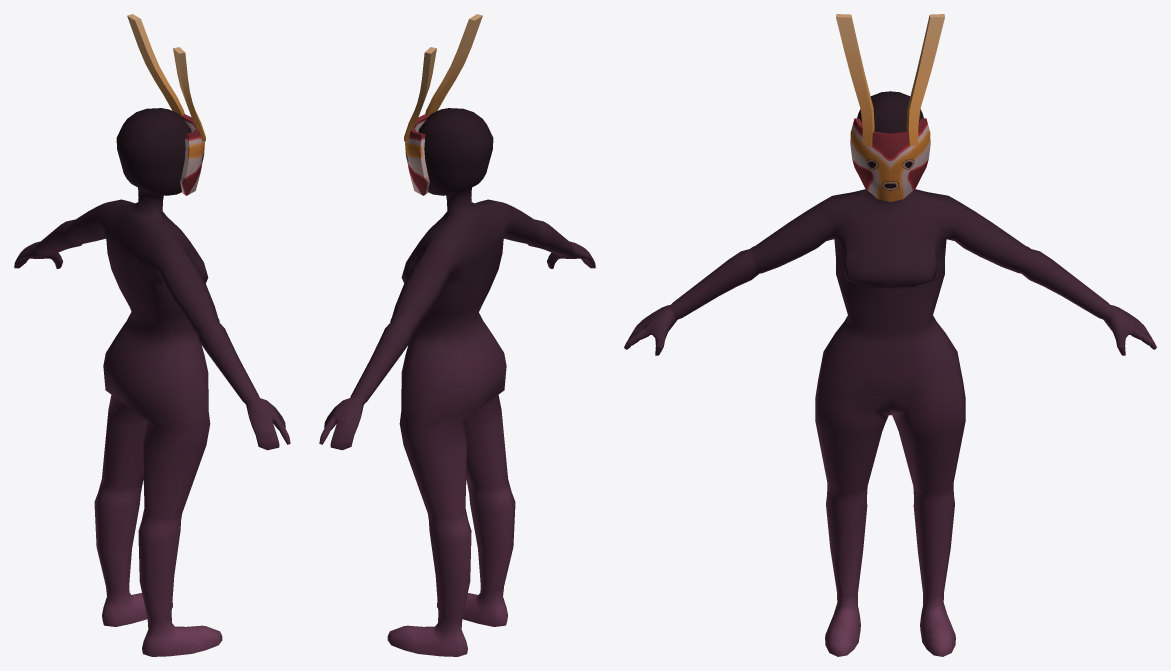
The model's file is scene_pZl5qM13bq.glb.
The picture shows the model from 3 angles, left to right: view 1: azimuth 30°, elevation 25°; view 2: azimuth 150°, elevation 25°; view 3: azimuth 270°, elevation 25°; orthographic projection. The views are drawn at different scales.
Visible parts, largest first — view 1: mesh_char_112; view 2: mesh_char_112; view 3: mesh_char_112.
Part boxes in pixels (x1,y1,x2,y2): mesh_char_112: (14, 14, 290, 656); mesh_char_112: (319, 14, 595, 656); mesh_char_112: (624, 14, 1156, 656).
Bounding box in the file's own units: 0.6888 × 4.71 × 3.66.
Materials: 1 (1 with a texture image).
